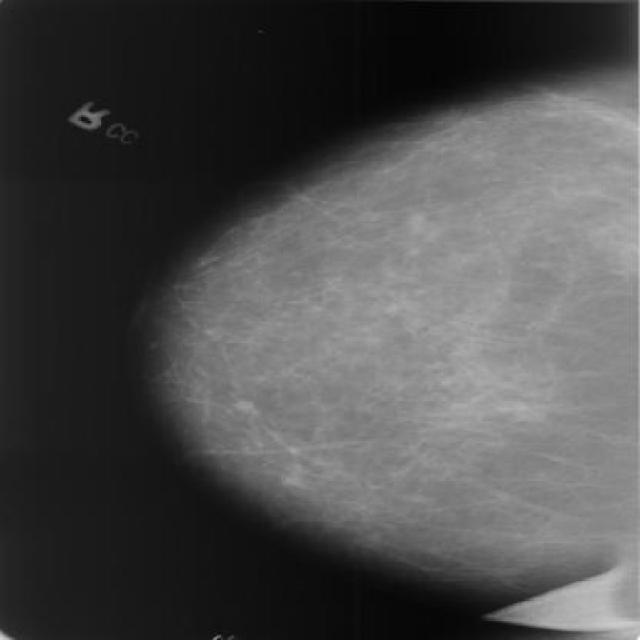tumor: (192, 296, 590, 498)
